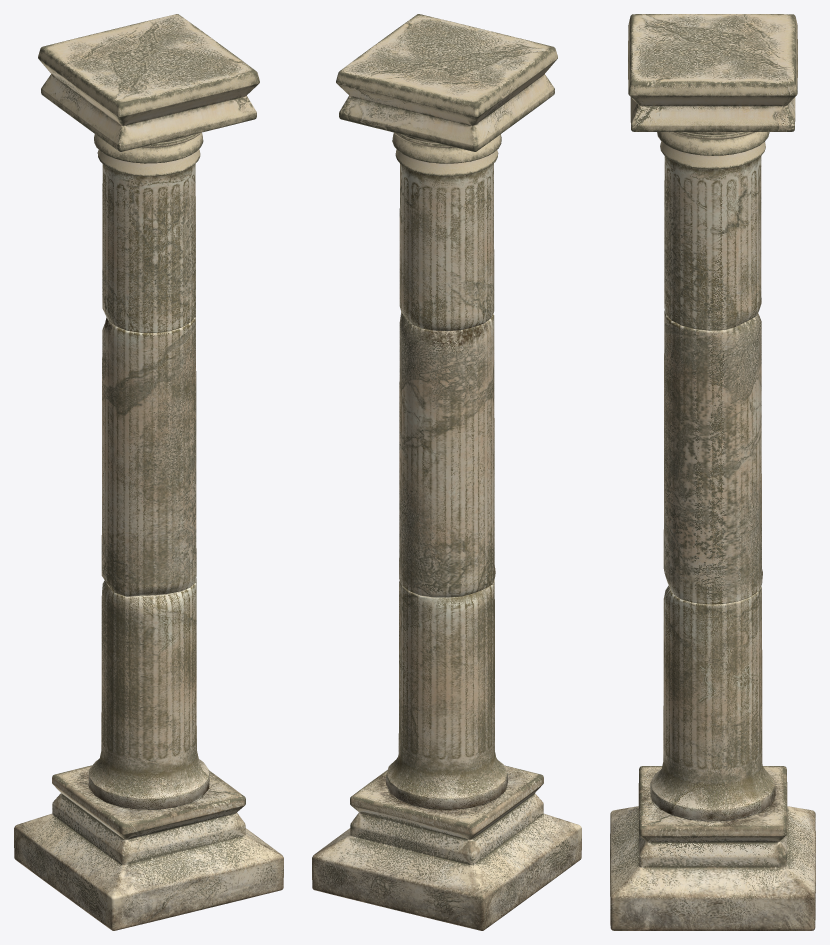
The model's file is roman_column.glb.
The picture shows the model from 3 angles, left to right: view 1: azimuth 30°, elevation 25°; view 2: azimuth 150°, elevation 25°; view 3: azimuth 270°, elevation 25°; orthographic projection. The views are drawn at different scales.
Parts seen in each view (by area): view 1: mesh_01_low, mesh_02_low; view 2: mesh_01_low, mesh_02_low; view 3: mesh_01_low, mesh_02_low.
Boxes of the visible parts, x1,y1,x2,y2 form: mesh_01_low: [88, 164, 209, 809]; mesh_02_low: [14, 14, 283, 930]; mesh_01_low: [386, 163, 507, 809]; mesh_02_low: [312, 14, 581, 930]; mesh_01_low: [650, 156, 775, 821]; mesh_02_low: [610, 14, 815, 930].
Size of the model in its own units: 363 by 1636 by 363.
2 materials, 2 textured.
